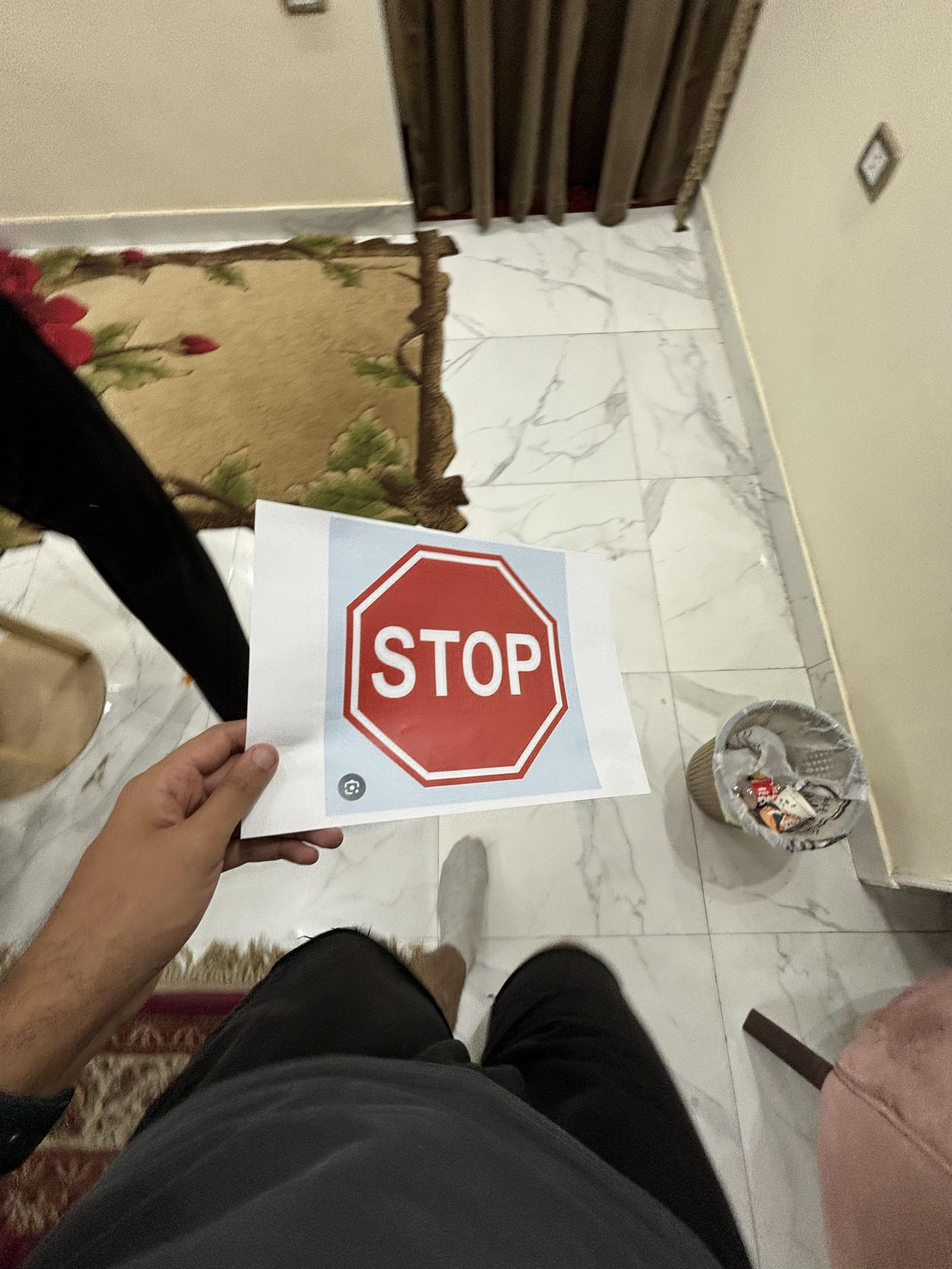Stop: (341, 533, 589, 792)
